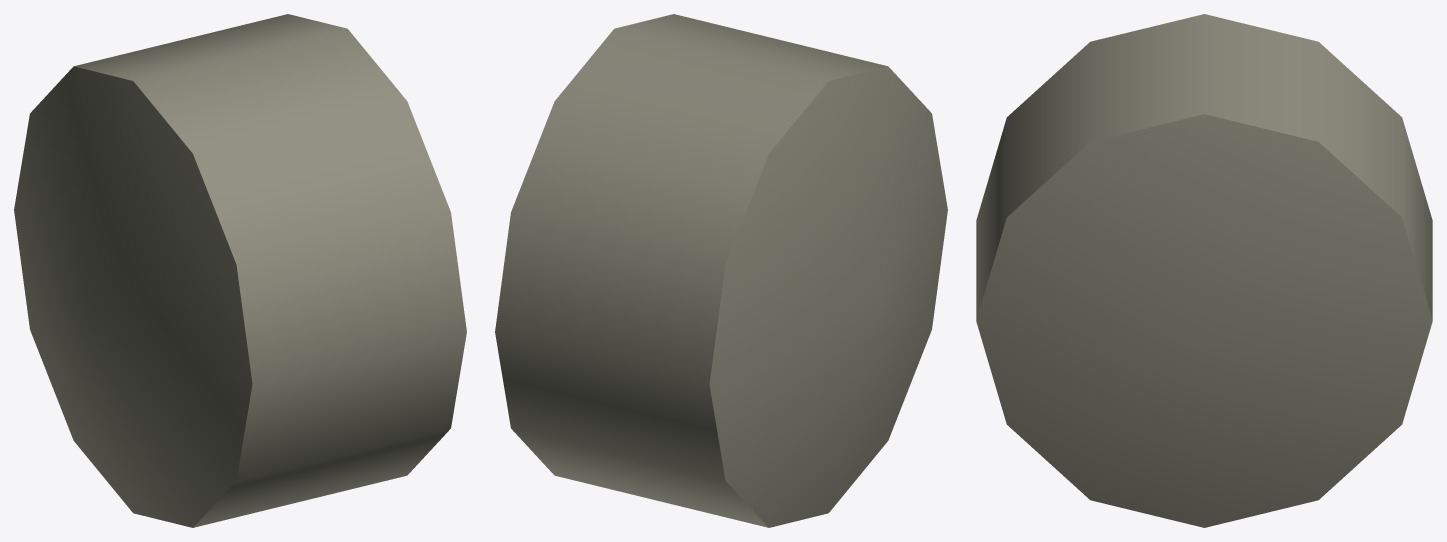
The model's file is pipeset2_ring.fbx.
3 views of the same model, side by side, from view 1: azimuth 30°, elevation 25°; view 2: azimuth 150°, elevation 25°; view 3: azimuth 270°, elevation 25° (orthographic). The views are drawn at different scales.
Visible parts, largest first — view 1: pipeset2_ring; view 2: pipeset2_ring; view 3: pipeset2_ring.
Part boxes in pixels (x1=…): pipeset2_ring: x1=14, y1=14, x2=466, y2=527; pipeset2_ring: x1=495, y1=14, x2=947, y2=527; pipeset2_ring: x1=976, y1=14, x2=1432, y2=527.
Bounding box in the file's own units: 116 × 153 × 153.
